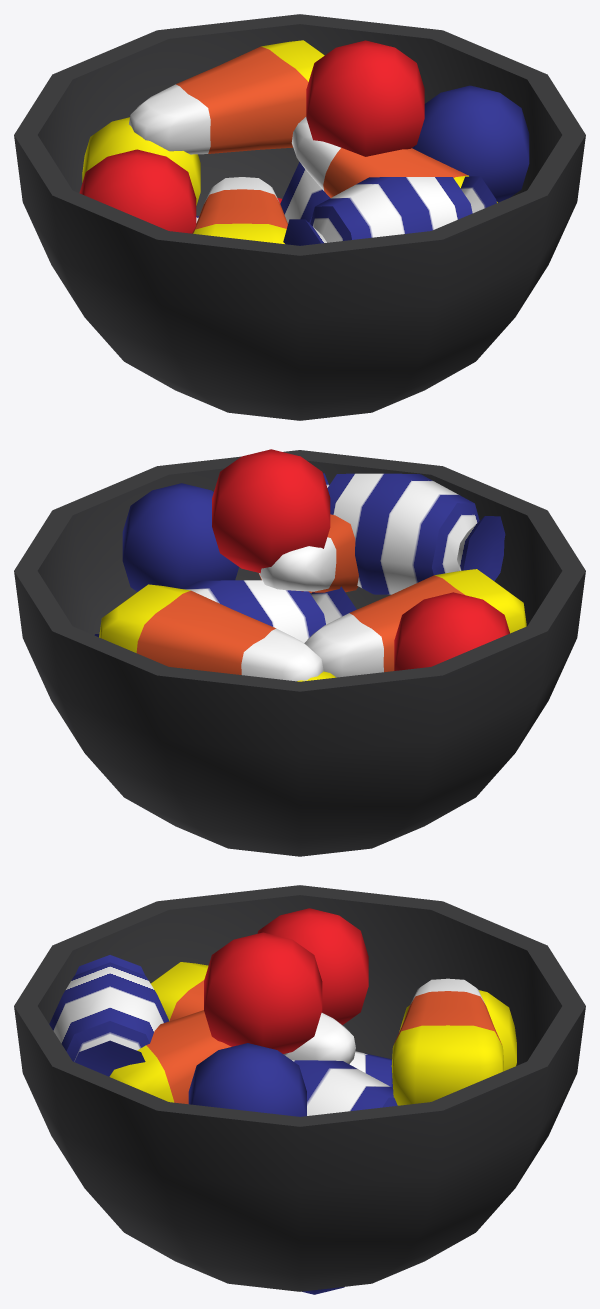
The model's file is MM_CandyBowl.fbx.
3 views of the same model, one above another, from view 1: azimuth 30°, elevation 25°; view 2: azimuth 150°, elevation 25°; view 3: azimuth 270°, elevation 25° (orthographic).
Parts seen in each view (by area): view 1: MM_CandyBowl; view 2: MM_CandyBowl; view 3: MM_CandyBowl.
Boxes of the visible parts, x1,y1,x2,y2 form: MM_CandyBowl: (14,14,585,420); MM_CandyBowl: (14,449,585,856); MM_CandyBowl: (14,885,585,1294).
Bounding box in the file's own units: 62.02 × 41.85 × 62.02.
